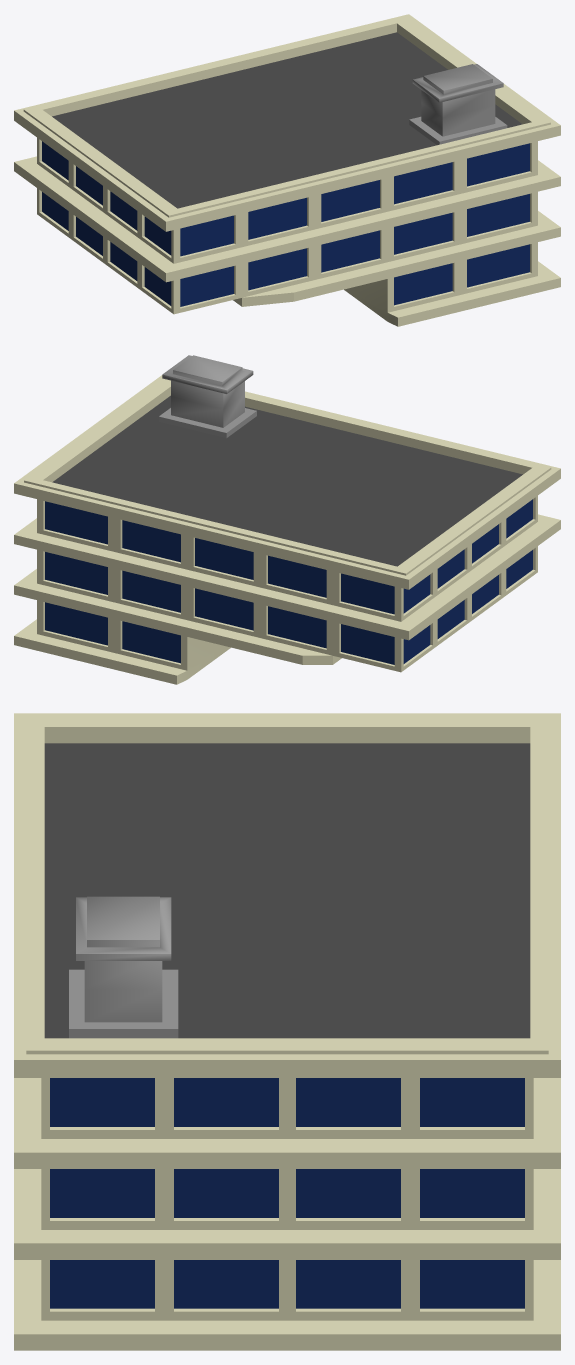
File: Building1TopBroken.fbx
The picture shows the model from 3 angles, top to bottom: view 1: azimuth 30°, elevation 25°; view 2: azimuth 150°, elevation 25°; view 3: azimuth 270°, elevation 25°; orthographic projection. The views are drawn at different scales.
Parts seen in each view (by area): view 1: B_Top; view 2: B_Top; view 3: B_Top.
Boxes of the visible parts, x1=… form: B_Top: x1=14, y1=14, x2=560, y2=326; B_Top: x1=14, y1=355, x2=560, y2=684; B_Top: x1=14, y1=713, x2=560, y2=1350.
Bounding box in the file's own units: 3240 × 1607 × 2160.
